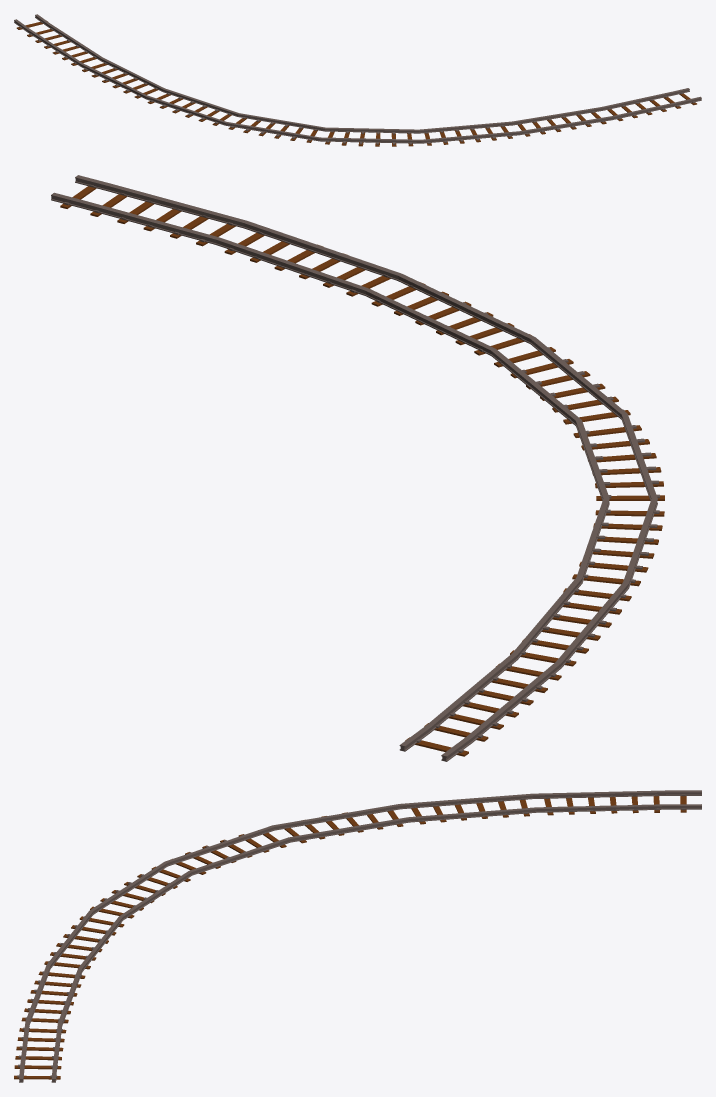
File: RailwayTrack_Curve.fbx
The picture shows the model from 3 angles, top to bottom: view 1: azimuth 30°, elevation 25°; view 2: azimuth 150°, elevation 25°; view 3: azimuth 270°, elevation 25°; orthographic projection. The views are drawn at different scales.
Parts seen in each view (by area): view 1: RailwayTrack_Curve; view 2: RailwayTrack_Curve; view 3: RailwayTrack_Curve.
Boxes of the visible parts, x1=… form: RailwayTrack_Curve: x1=14, y1=14, x2=701, y2=146; RailwayTrack_Curve: x1=51, y1=175, x2=664, y2=761; RailwayTrack_Curve: x1=14, y1=790, x2=701, y2=1082.
Bounding box in the file's own units: 1863 × 14.29 × 1864.
